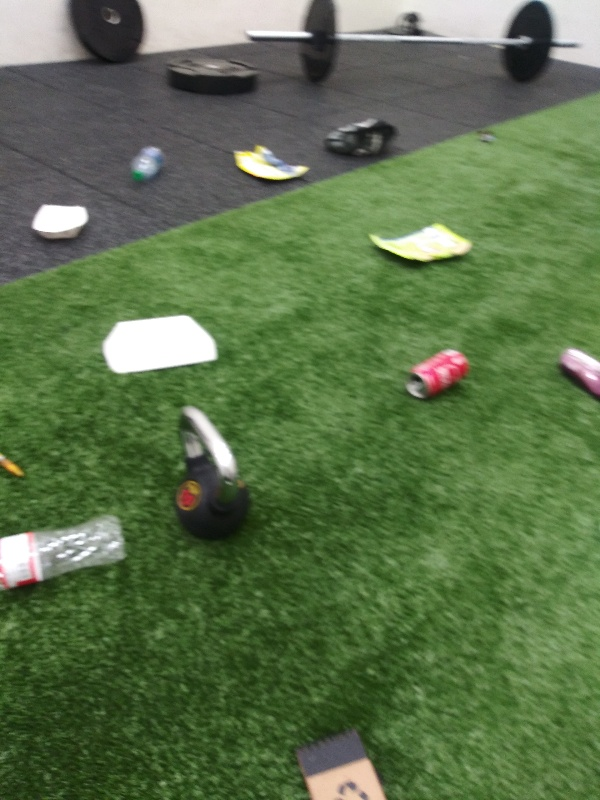bag: (367, 220, 474, 265), (232, 140, 314, 183)
bottle: (1, 510, 133, 598), (128, 140, 172, 187)
can: (402, 345, 474, 399), (549, 342, 600, 403)
plate: (93, 311, 227, 383), (28, 199, 95, 244)
